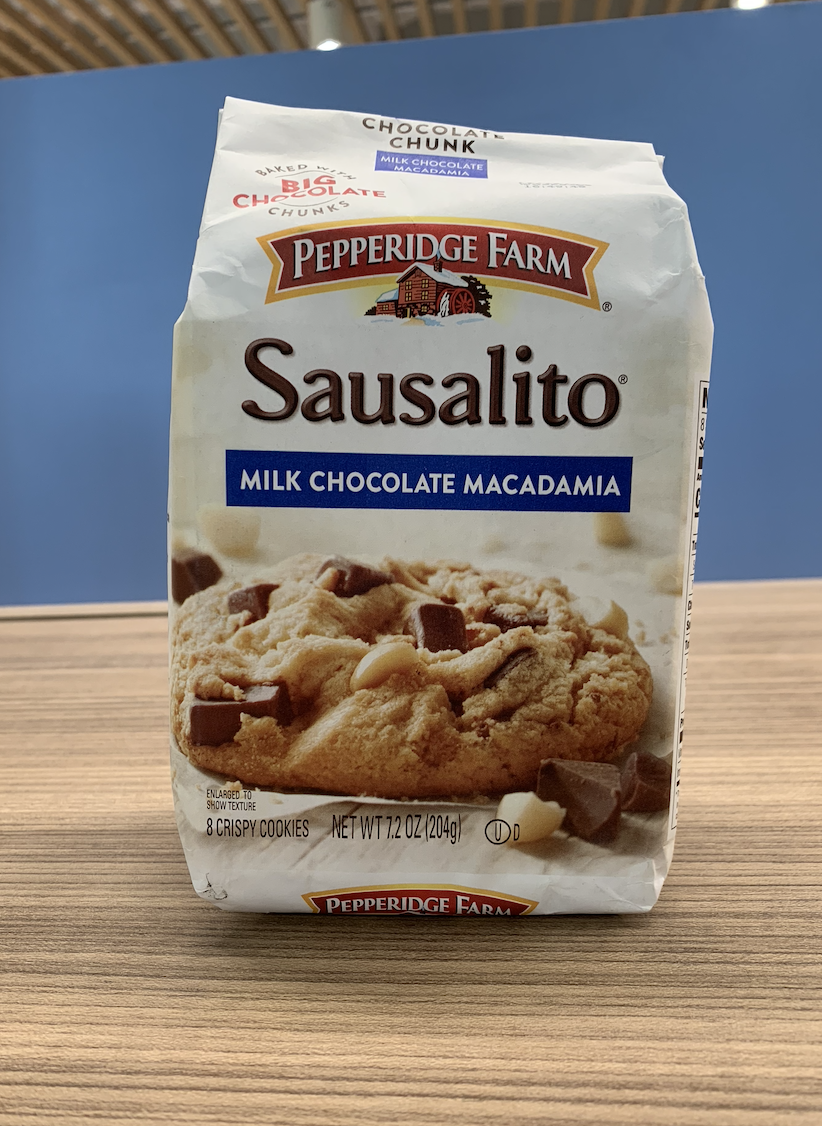cookies_200g-299g: (215, 154, 657, 889)
